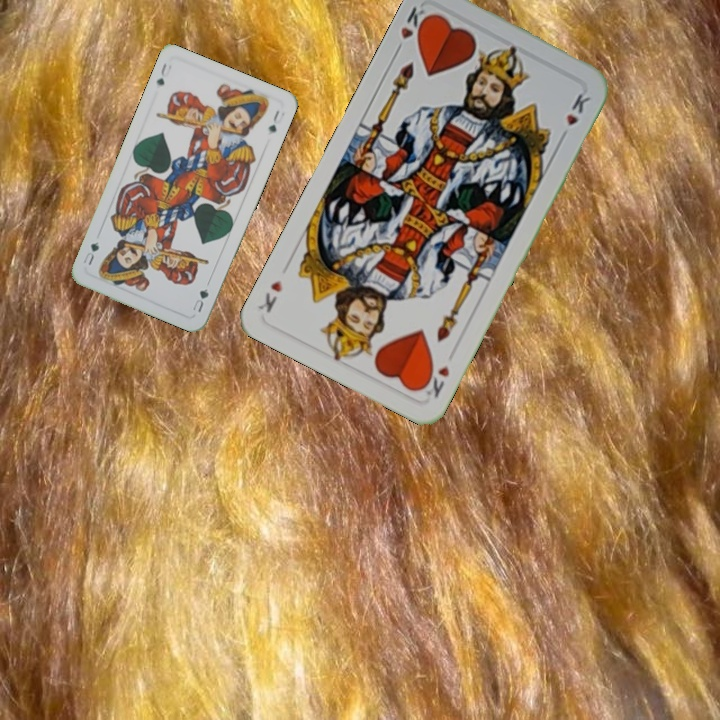GU: (188, 284, 211, 315), (152, 59, 174, 88)
HK: (390, 2, 433, 57), (417, 361, 452, 401)
